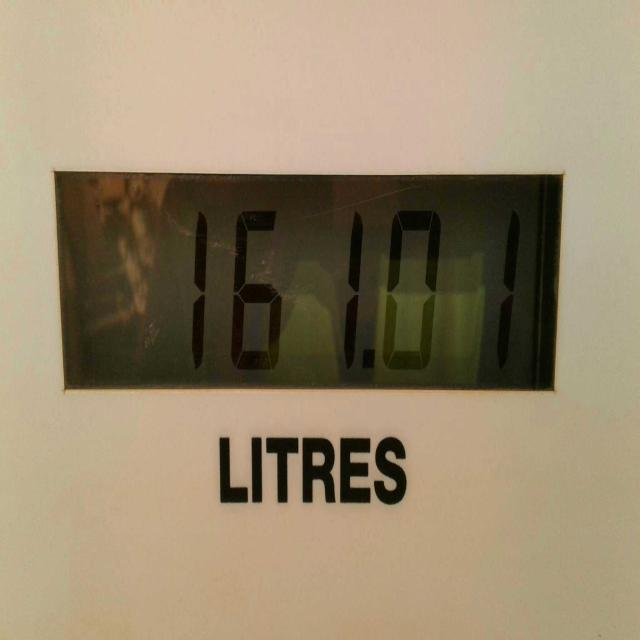.: (357, 341, 384, 383)
0: (377, 199, 454, 372)
1: (484, 198, 532, 370), (320, 210, 369, 374), (178, 202, 220, 373)
6: (227, 192, 291, 366)
